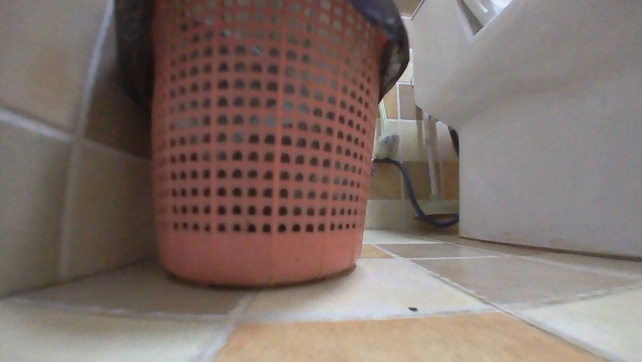toilet: (400, 0, 641, 259)
